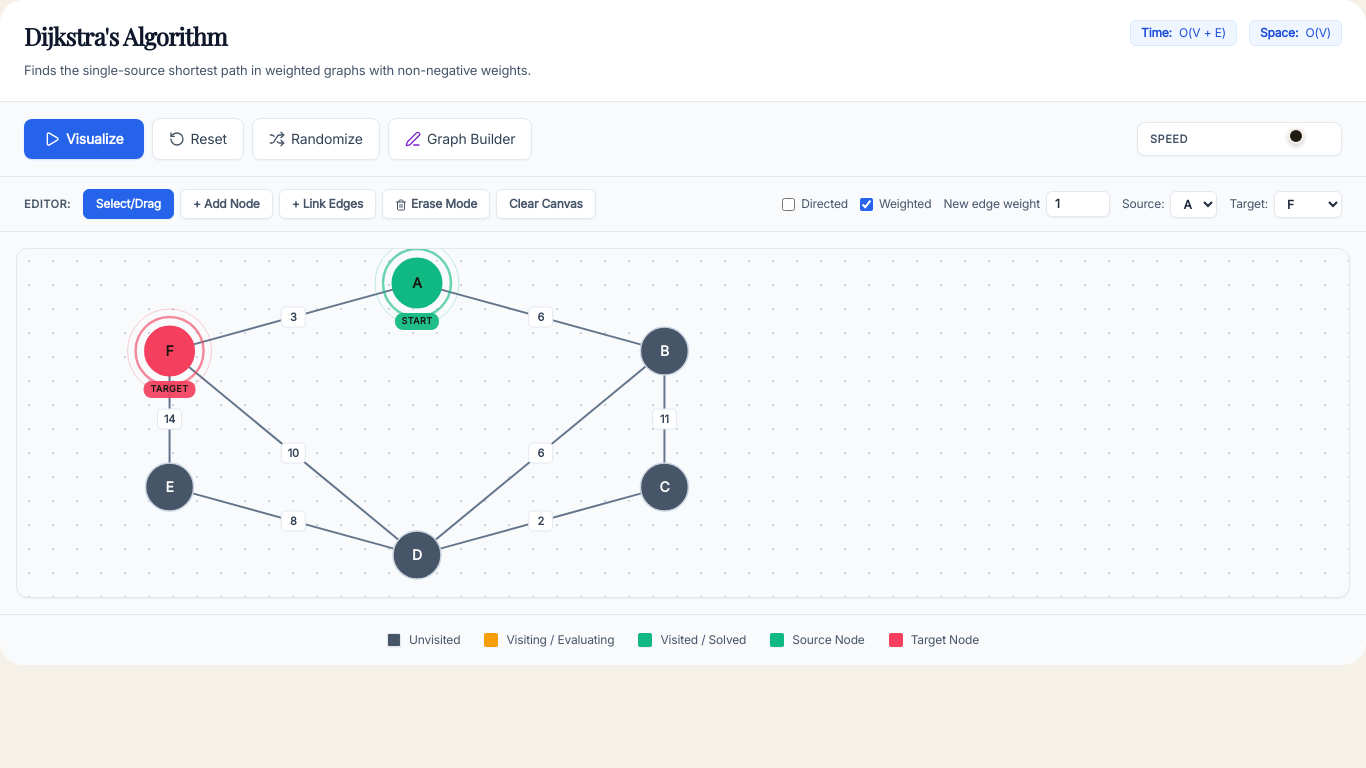
it: GraphVisualizer › compiles a Dijkstra trace and exposes the transport controls
Click the button "Visualize": (84,139) [24,119,144,159]
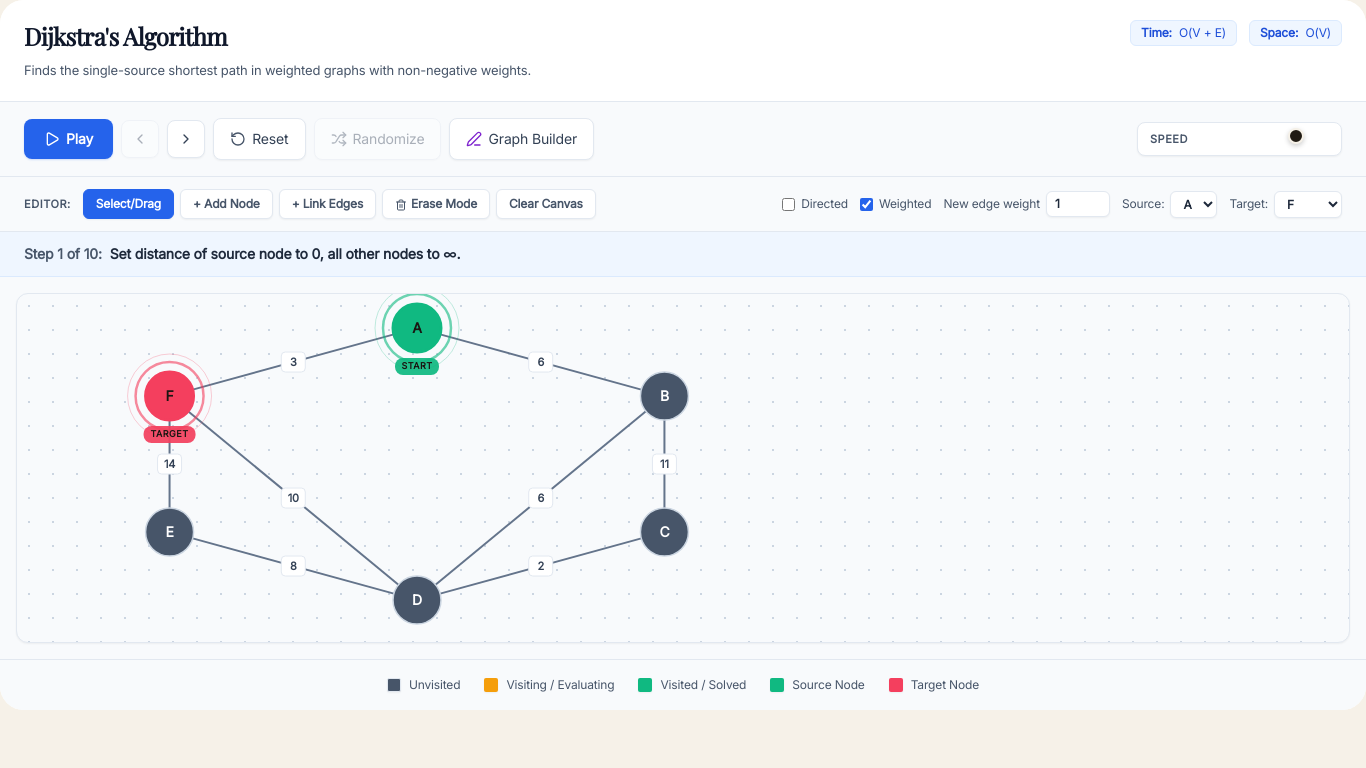
Now the text "Step 1 of 10:" is shown, box [24,244,102,264]
Now the button "Play" is shown, box [24,119,113,159]
Now the button named "Previous step" is shown, box [121,120,159,158]
Stepping forward moves the trace without owning a timer.
Click the button named "Next step": (186,139) [167,120,205,158]
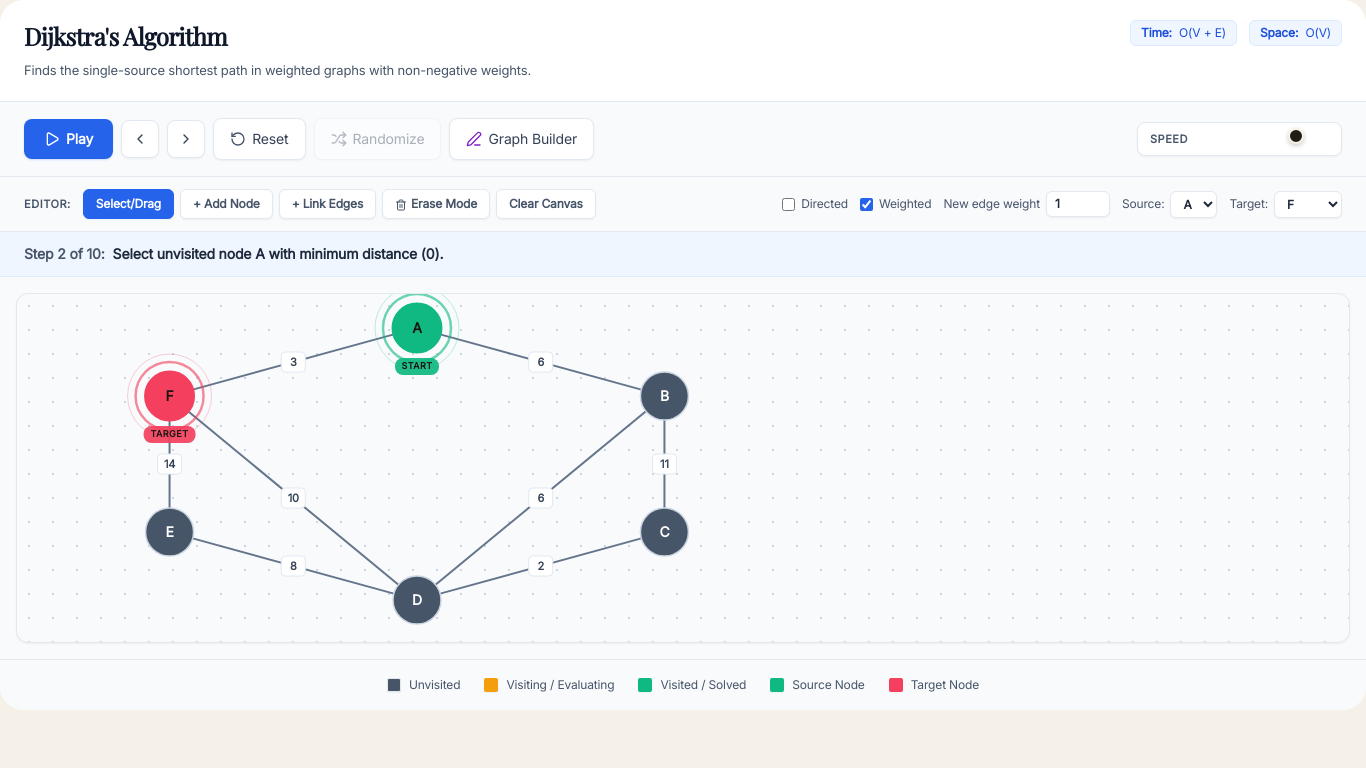
Now the text "Step 2 of 10:" is shown, box [24,244,105,264]
